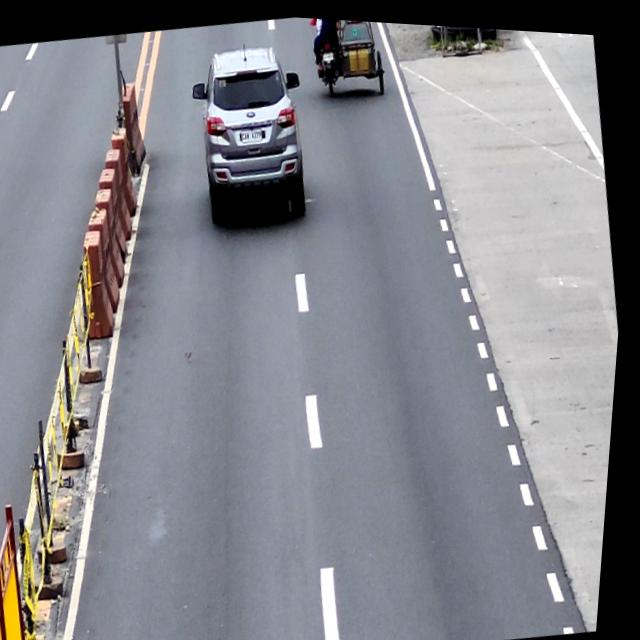Car: (180, 35, 326, 236)
License-Plate: (241, 123, 267, 141), (322, 46, 337, 59)
Tricycle: (303, 14, 391, 101)
